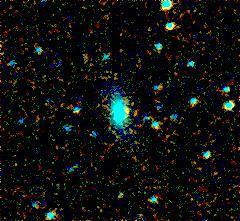star: (108, 98, 138, 128)
